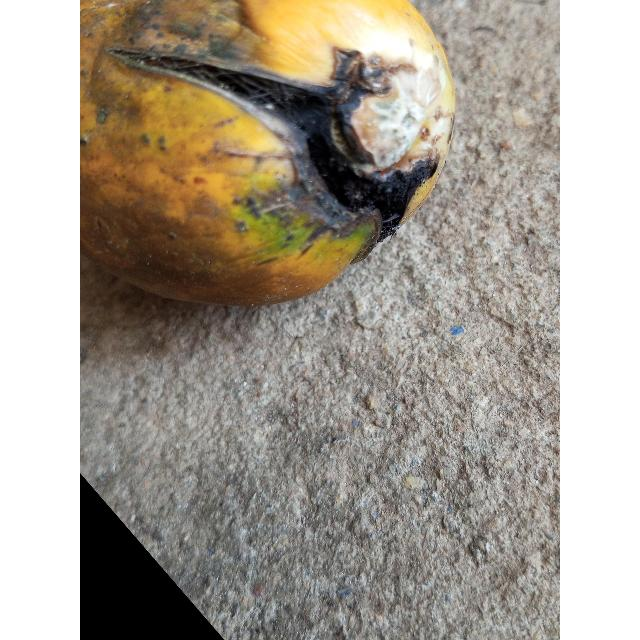damaged: (80, 0, 457, 309)
